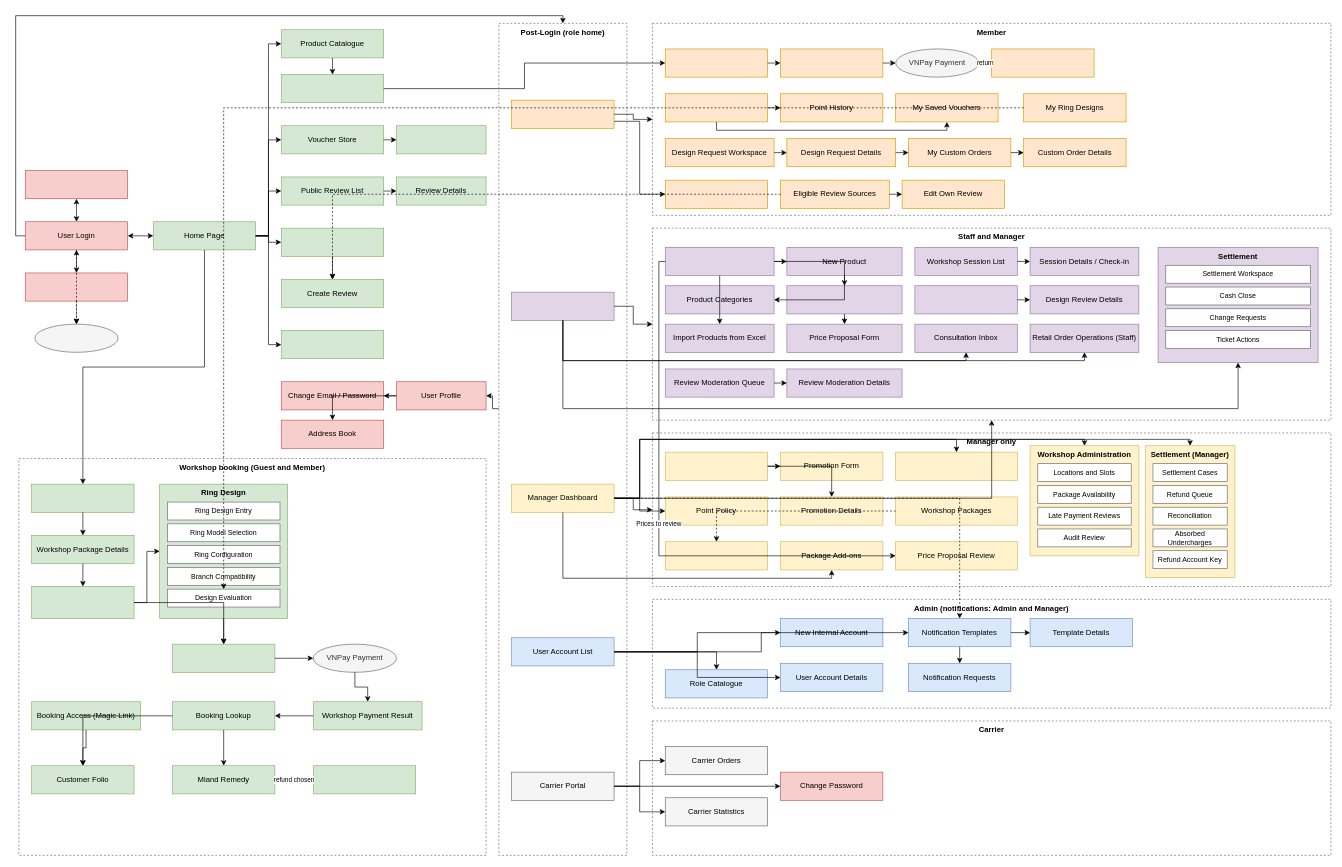
Some shapes in this 1342 by 867 pixel diagram are drawn without their labels. The centre of each missing label's shape, as x and y in pixels:
"AI Support Chat" belongs at [332,344].
"Consultation Chat" belongs at [716,194].
"Design Review Queue" belongs at [965,299].
"Forgot Password" belongs at [76,184].
"Google SSO" belongs at [76,338].
"Guest Review Lookup" belongs at [332,242].
"Home Page (Member menu)" belongs at [562,114].
"My Loyalty" belongs at [716,107].
"My Retail Orders" belongs at [1042,62].
"Price AI Suggestions" belongs at [716,555].
"Product Details" belongs at [332,88].
"Product Management Details" belongs at [844,299].
"Product Management List" belongs at [719,261].
"Promotion List" belongs at [716,466].
"Refund Account" belongs at [364,779].
"Retail Checkout" belongs at [831,62].
"Retail Payment Reconciliation" belongs at [956,466].
"Session and Participant Booking" belongs at [82,602].
"Shopping Cart" belongs at [716,62].
"Staff Home" belongs at [562,306].
"User Register" belongs at [76,286].
"Voucher Details" belongs at [441,139].
"Workshop Booking Cart" belongs at [223,658].
"Workshop Package List" belongs at [82,498].
